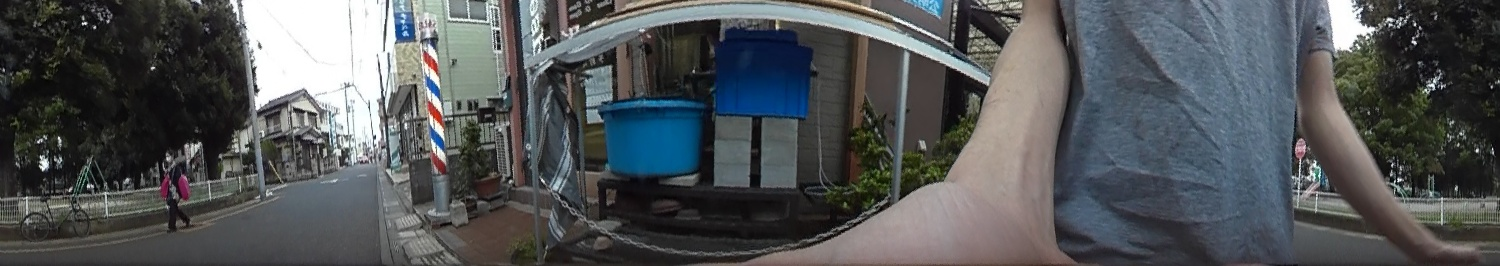person: (158, 148, 194, 232)
